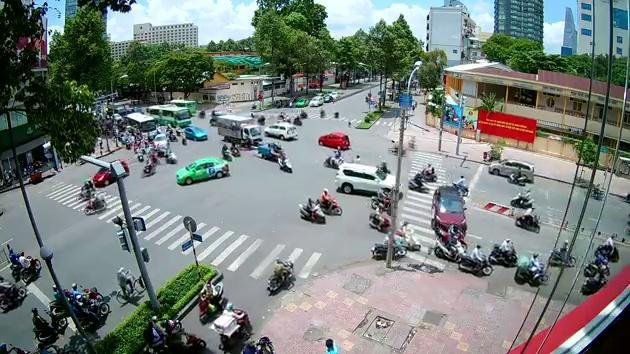xe buyt: (146, 103, 189, 127)
xe dap: (113, 265, 147, 303)
xe hoi: (335, 160, 397, 194), (431, 183, 466, 232), (173, 158, 229, 184), (488, 157, 534, 183), (90, 156, 129, 186), (316, 128, 349, 149), (262, 120, 295, 140), (182, 125, 209, 142)
xe may: (213, 301, 247, 347), (142, 314, 182, 351), (30, 305, 68, 343), (455, 243, 492, 277), (197, 277, 223, 325), (264, 256, 296, 295), (512, 250, 545, 286), (384, 219, 421, 250), (0, 272, 26, 312), (487, 236, 517, 266), (17, 250, 42, 284), (579, 264, 607, 294), (317, 186, 343, 217), (296, 196, 324, 224), (547, 239, 575, 266), (368, 201, 393, 231), (513, 206, 539, 233), (593, 234, 619, 261), (83, 192, 107, 216), (509, 188, 533, 208), (406, 172, 429, 192), (417, 161, 436, 181), (276, 150, 291, 173), (219, 143, 232, 161)
xe tai: (215, 114, 260, 146)
